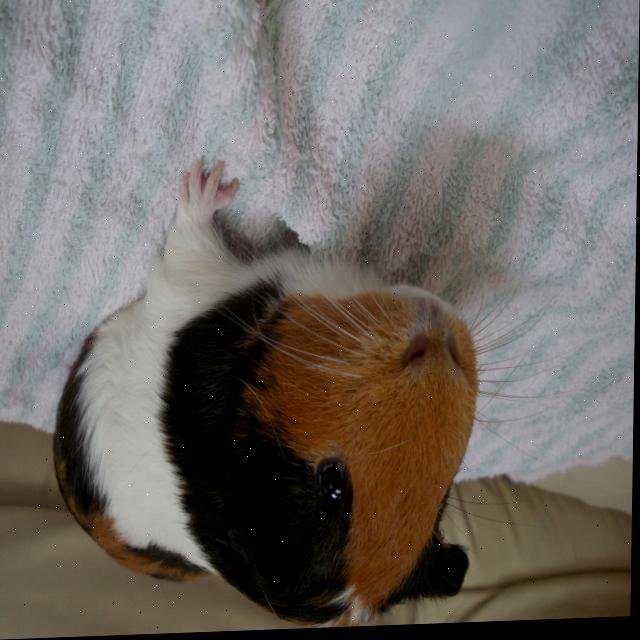guinea pig: (50, 155, 481, 638)
